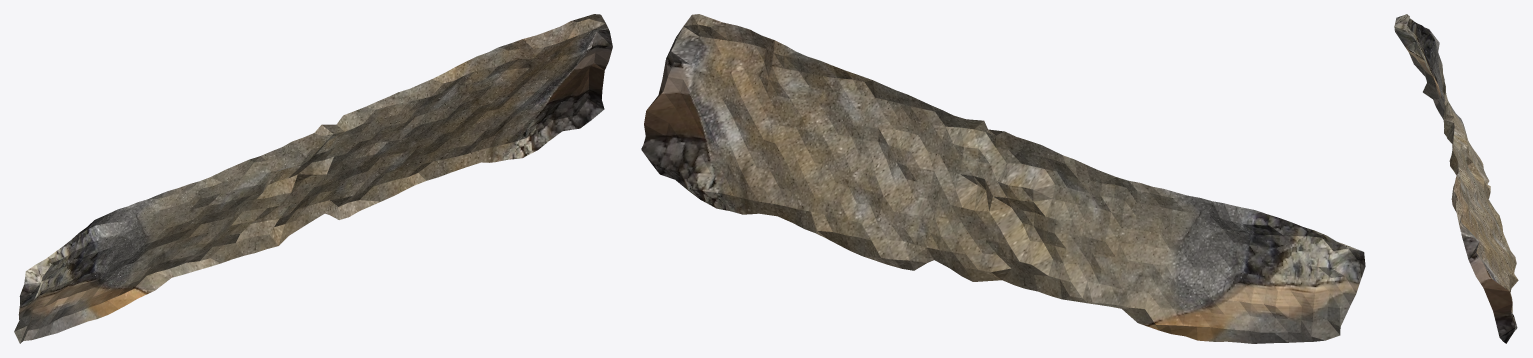
3 views of the same model, side by side, from view 1: azimuth 30°, elevation 25°; view 2: azimuth 150°, elevation 25°; view 3: azimuth 270°, elevation 25° (orthographic). The views are drawn at different scales.
Size of the model in its own units: 675 by 191 by 117.
